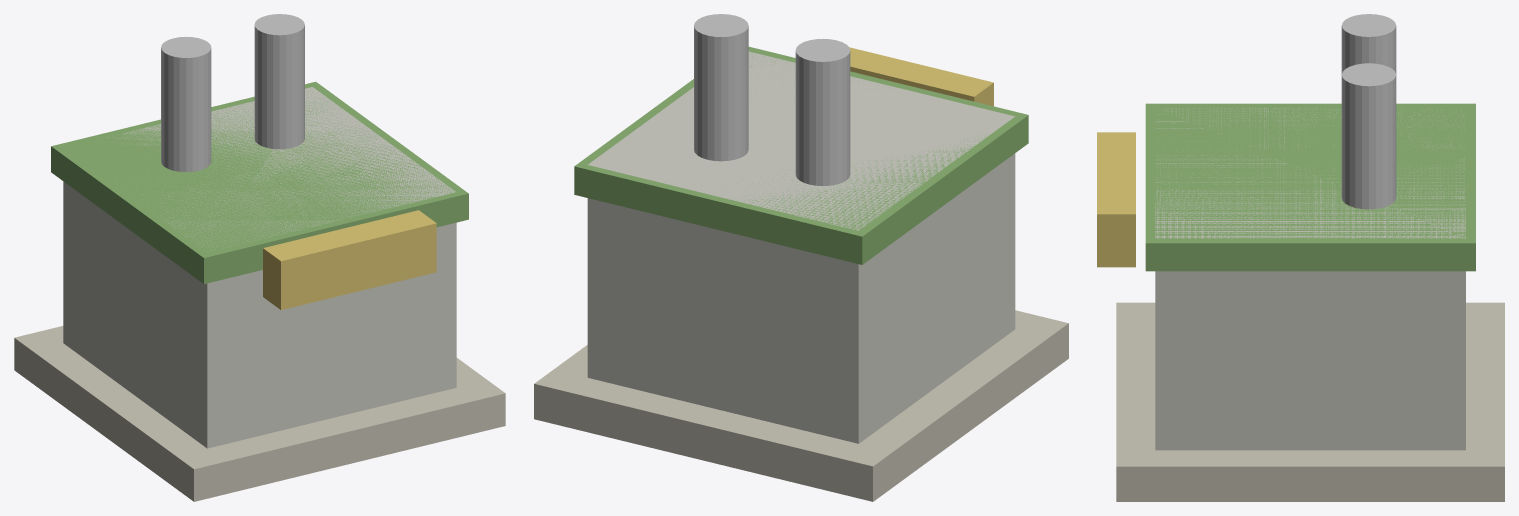
Rendered from fabrica_alimentos_1x1.glb.
3 renders of one model, left to right at view 1: azimuth 30°, elevation 25°; view 2: azimuth 150°, elevation 25°; view 3: azimuth 270°, elevation 25°, orthographic. The views are drawn at different scales.
Visible parts, largest first — view 1: world; view 2: world; view 3: world.
Part boxes in pixels (<box>): world: <box>14,14,505,501</box>; world: <box>534,14,1068,501</box>; world: <box>1097,14,1504,501</box>.
Size of the model in its own units: 1 by 1.05 by 1.05.
